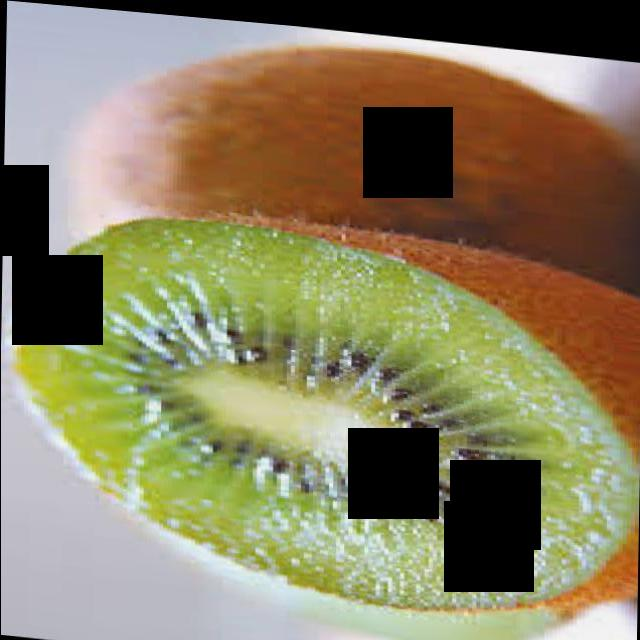kiwi: (55, 16, 640, 286)
